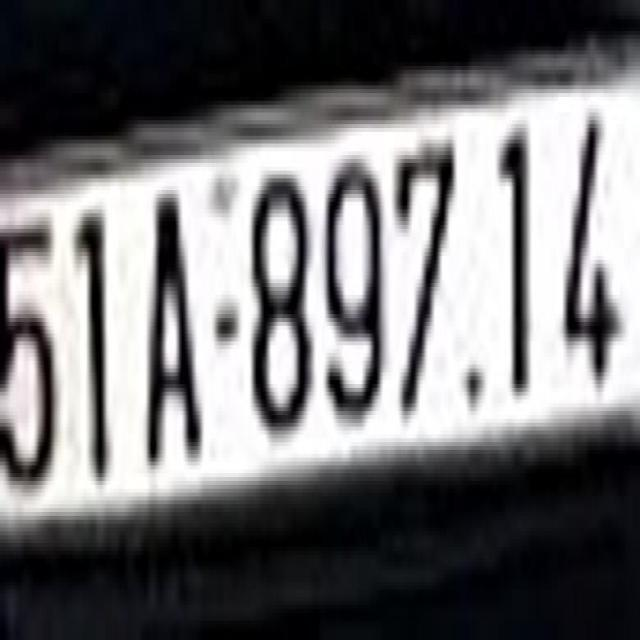1: (490, 70, 544, 438), (69, 162, 123, 500)
4: (559, 70, 623, 438)
5: (1, 178, 51, 536)
7: (394, 108, 456, 412)
8: (248, 140, 316, 458)
9: (323, 128, 383, 446)
A: (139, 162, 206, 500)
